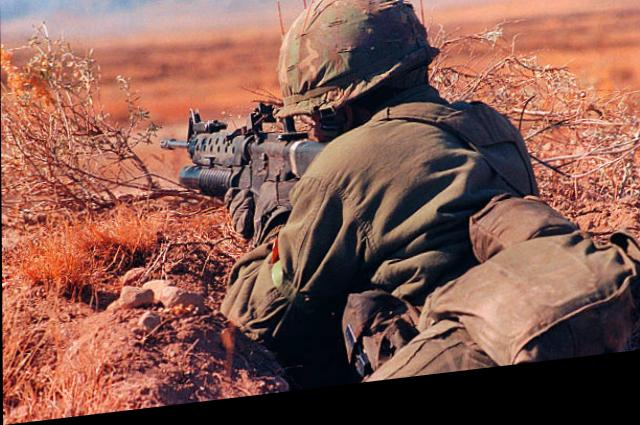other: (228, 0, 499, 357)
